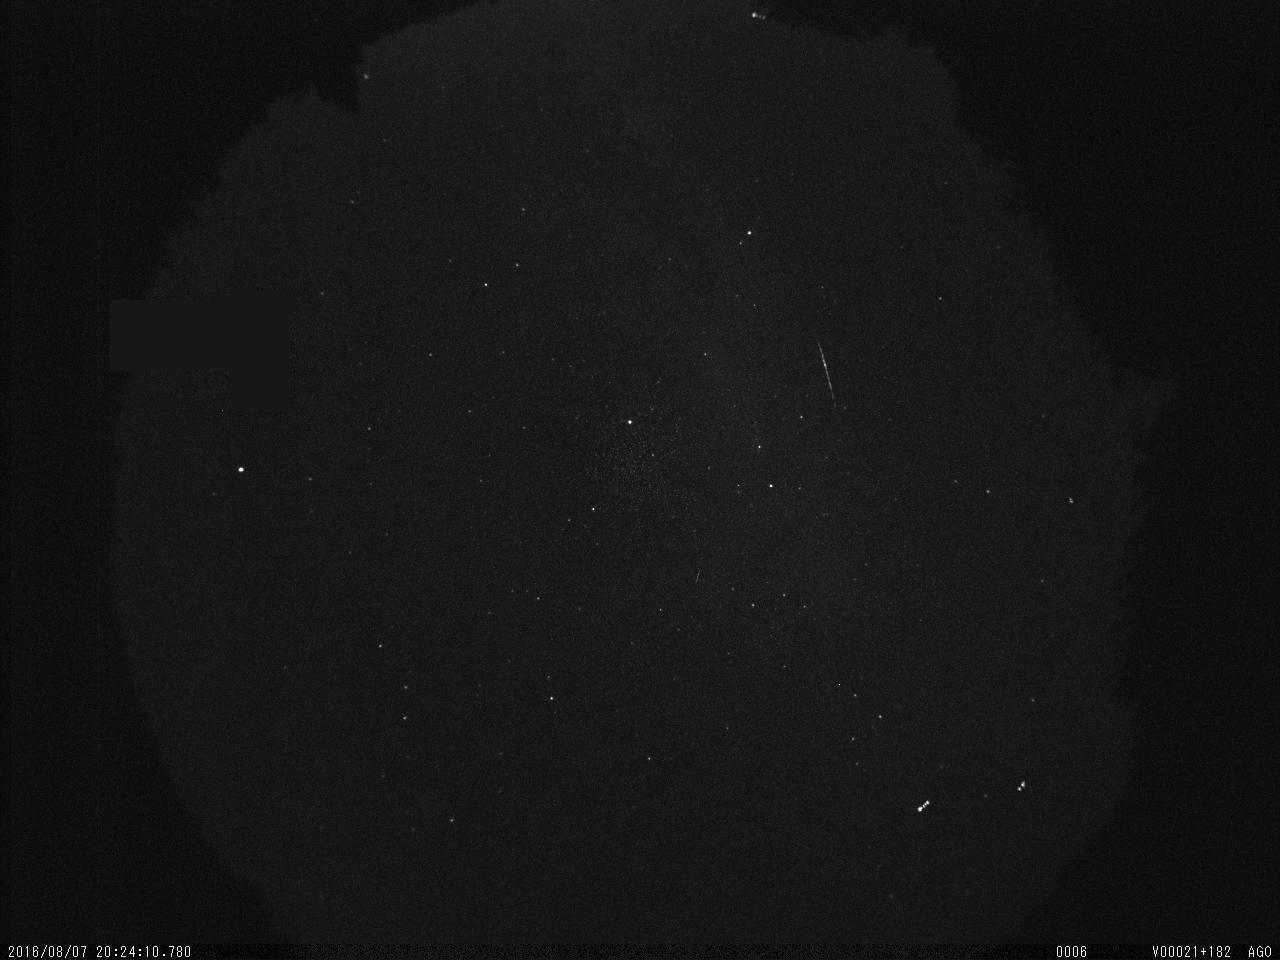meteor: (809, 324, 846, 413)
satelite: (910, 795, 935, 819), (1011, 776, 1033, 797)
